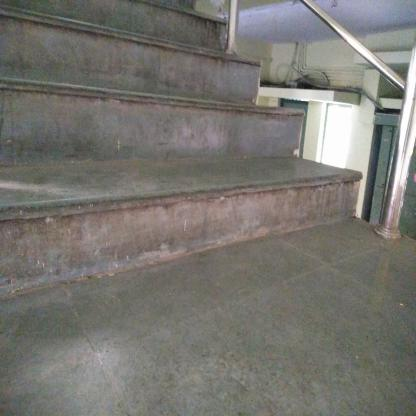stairs: (1, 15, 227, 300)
